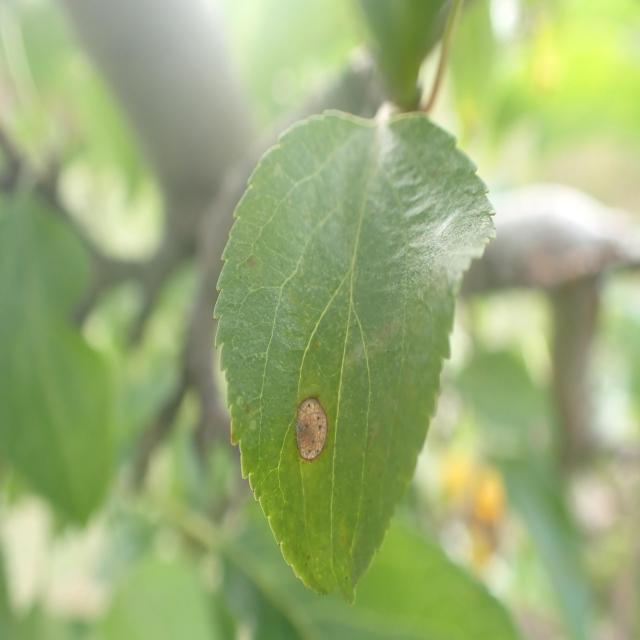frog-eye-leaf-spot: (212, 108, 497, 606)
